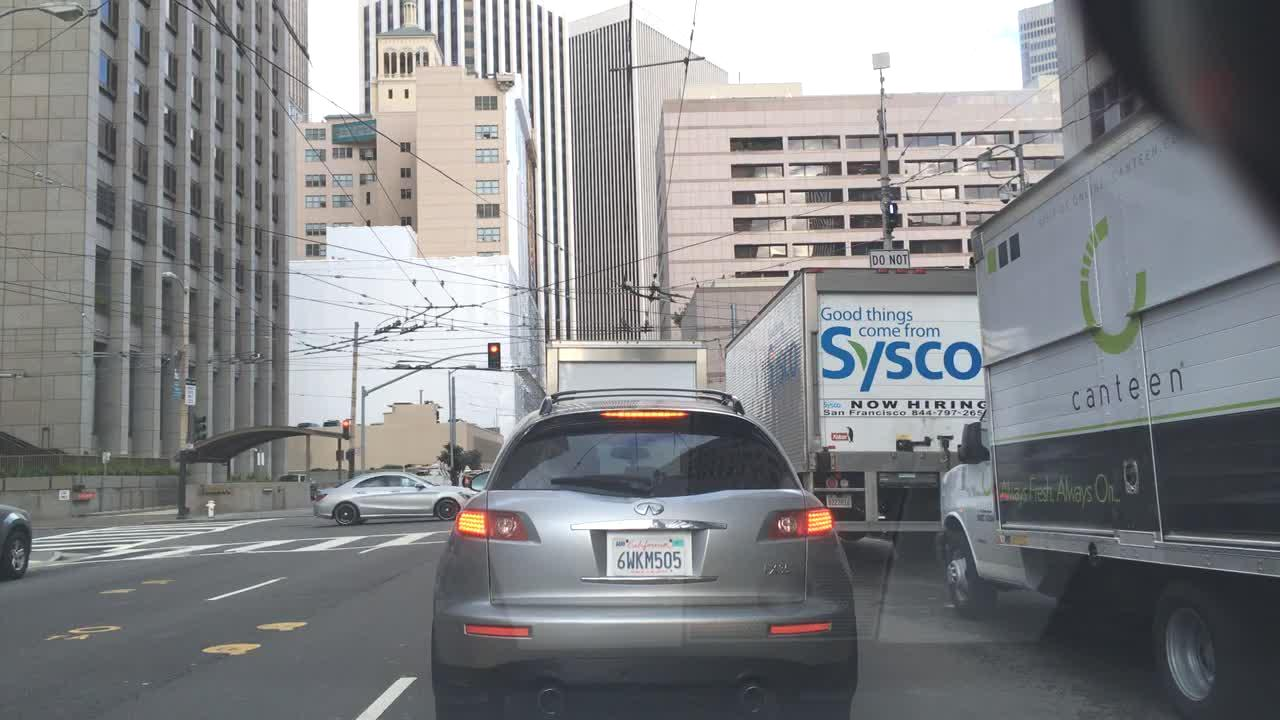Infiniti: (628, 497, 669, 520)
